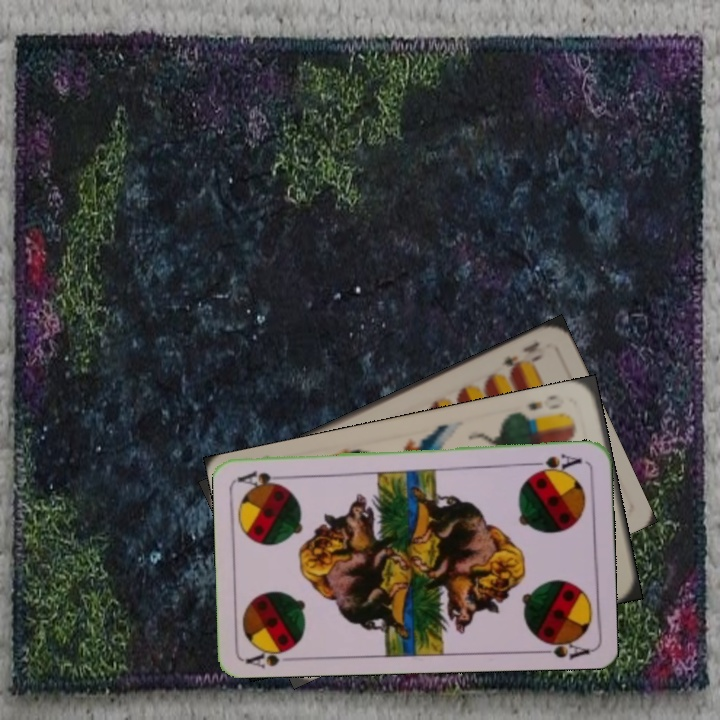E10: (497, 337, 545, 376)
EO: (523, 390, 567, 413)
SA: (242, 641, 300, 669), (527, 450, 584, 476)
